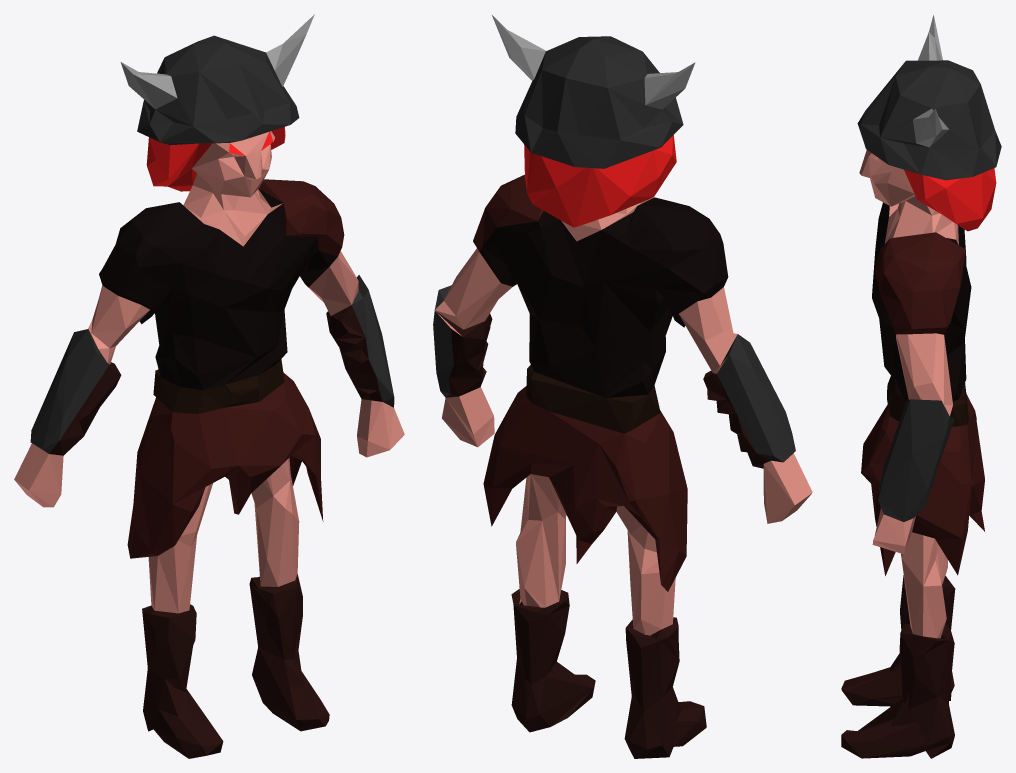
The model's file is viking2.FBX.
The picture shows the model from 3 angles, left to right: view 1: azimuth 30°, elevation 25°; view 2: azimuth 150°, elevation 25°; view 3: azimuth 270°, elevation 25°; orthographic projection. The views are drawn at different scales.
Parts seen in each view (by area): view 1: Group25346; view 2: Group25346; view 3: Group25346.
Part boxes in pixels (x1,y1,x2,y2): Group25346: [14, 14, 404, 758]; Group25346: [433, 15, 812, 758]; Group25346: [841, 15, 1001, 758].
Bounding box in the file's own units: 33 × 59.12 × 12.95.
